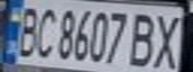0: (90, 7, 112, 64)
6: (72, 6, 93, 63)
7: (106, 8, 133, 66)
8: (51, 3, 78, 61)
B: (124, 9, 163, 69), (9, 1, 45, 58)
C: (30, 2, 60, 60)
X: (148, 9, 187, 70)
